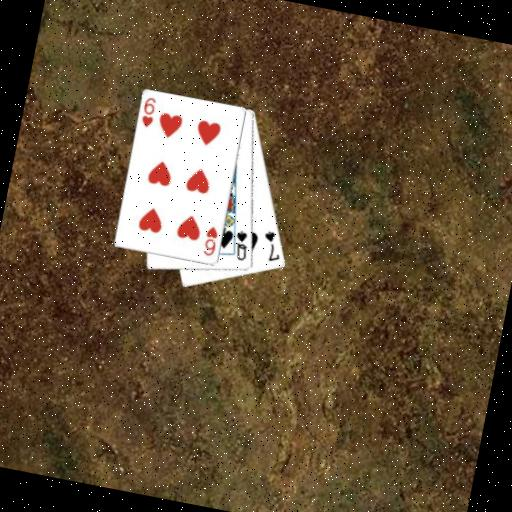6H: (200, 223, 222, 259), (137, 94, 159, 130)
7S: (256, 227, 286, 265)
QS: (230, 227, 254, 264)
